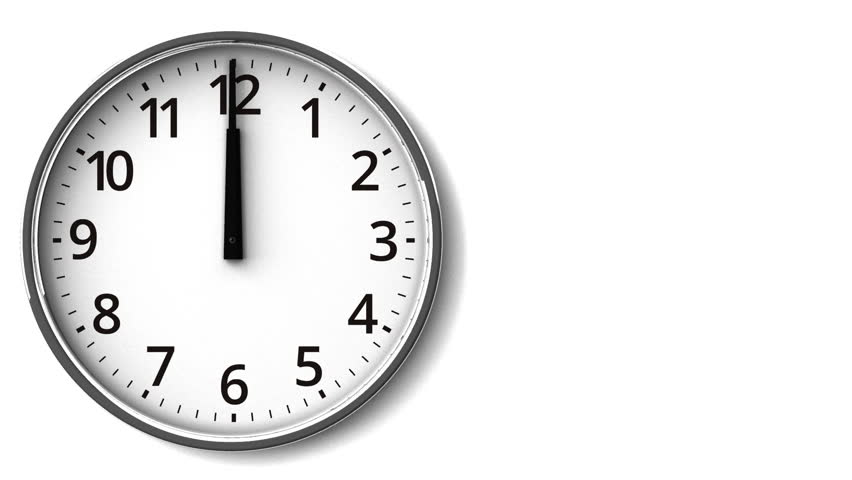clock: (41, 46, 433, 442)
